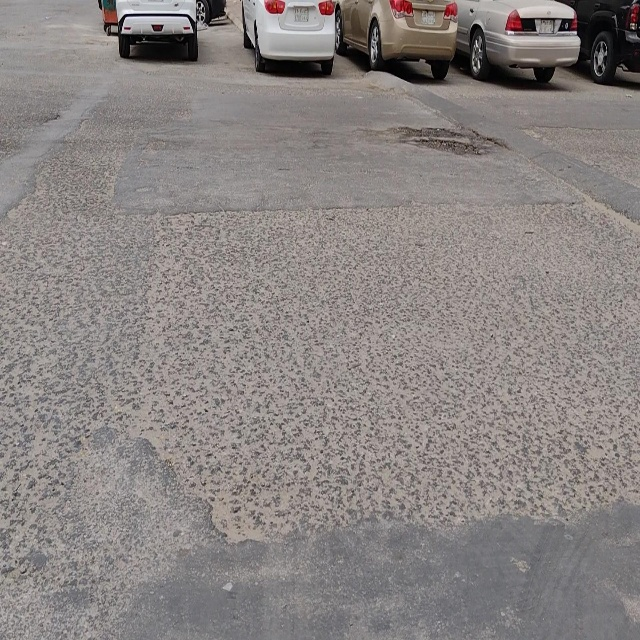pothole: (394, 123, 493, 159)
